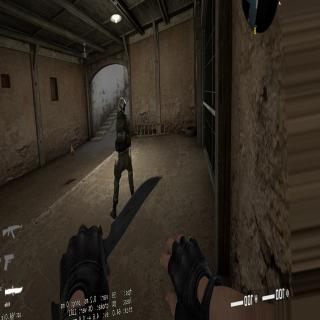CT-Body: (107, 94, 136, 210)
CT-Head: (118, 96, 126, 112)
